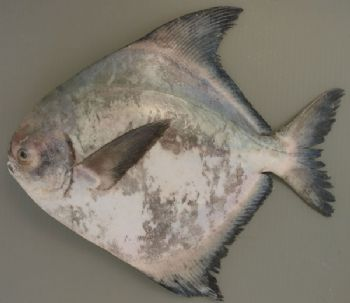Pomfret: (6, 5, 343, 297)
